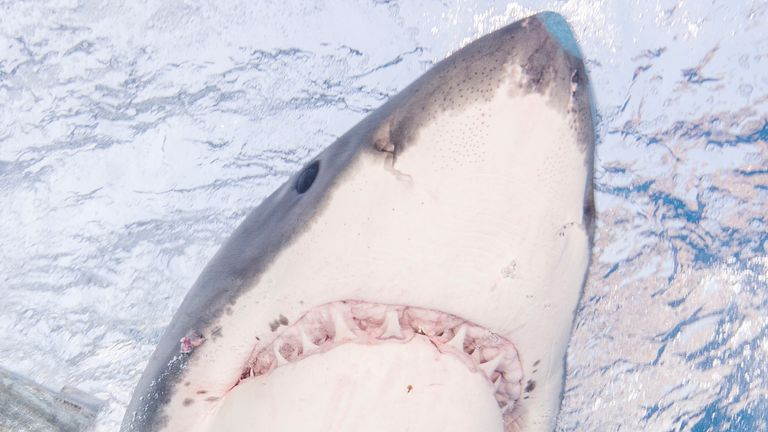shark: (106, 6, 631, 432)
